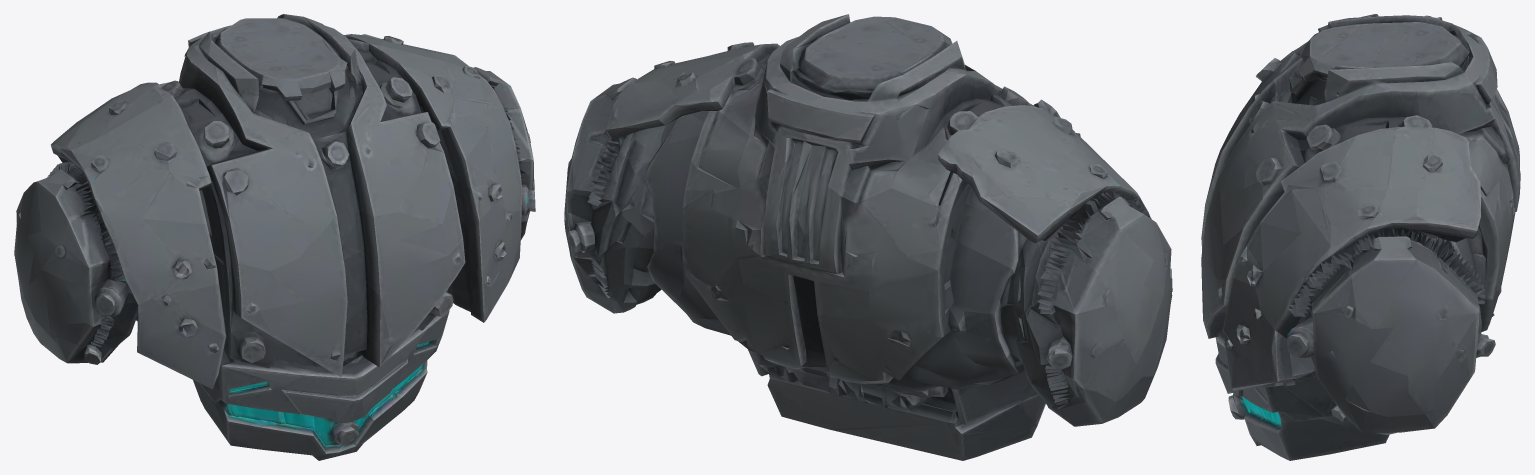
Rendered from mx_part_armor.glb.
3 renders of one model, left to right at view 1: azimuth 30°, elevation 25°; view 2: azimuth 150°, elevation 25°; view 3: azimuth 270°, elevation 25°, orthographic. The views are drawn at different scales.
Bounding box in the file's own units: 1.9 × 1.37 × 1.01.
Materials: 1 (1 with a texture image).
